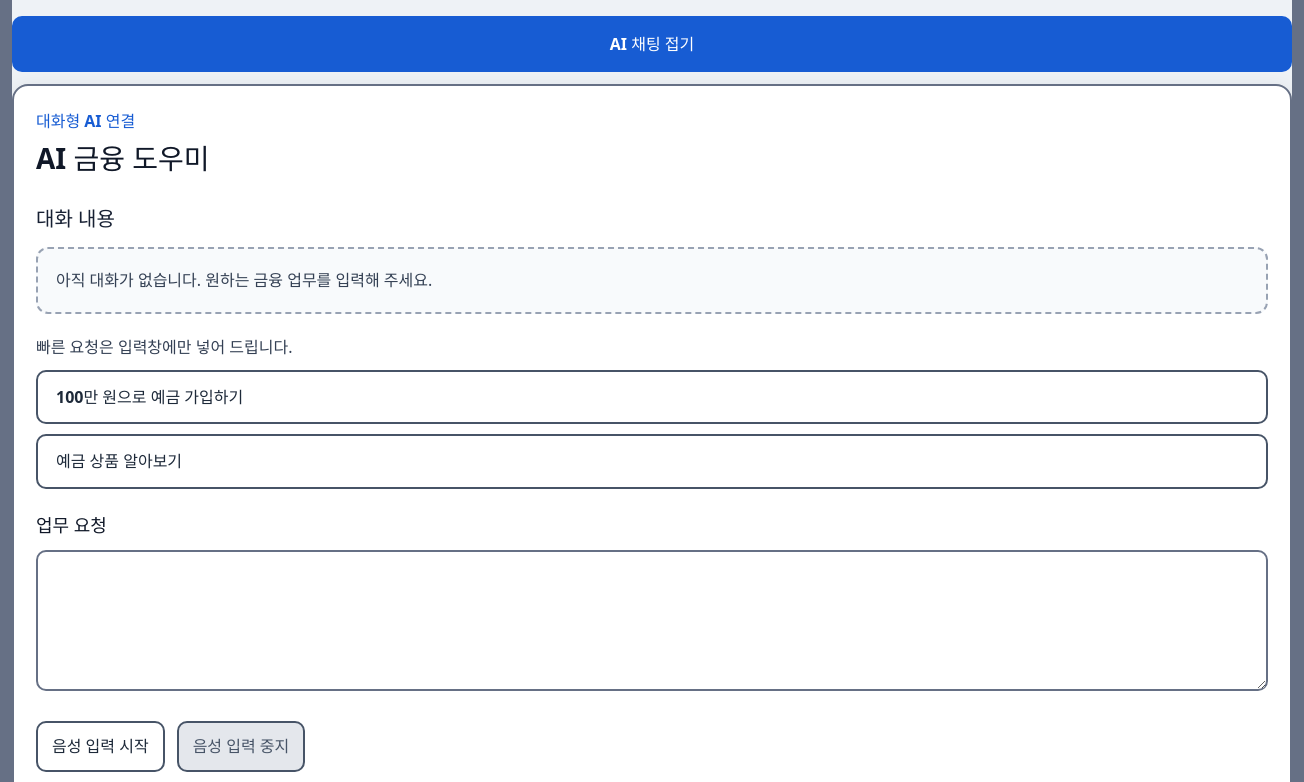
Test: agent speech controls › STT partial 결과도 draft만 바꾸고 자동 전송하지 않는다
The width and height of the screenshot is (1304, 782).
Click the button "음성 입력 시작". click: click(100, 746)
box: [36,721,165,772]
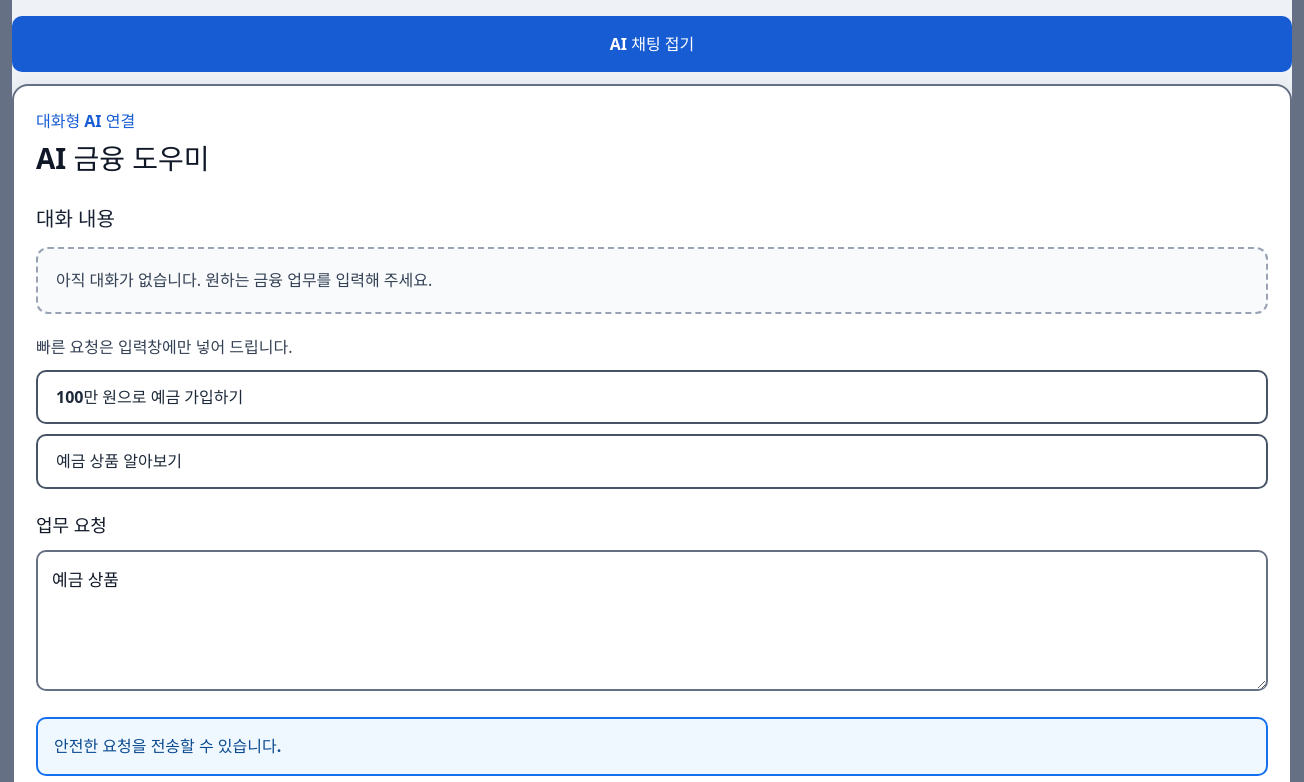
Check: the text box labelled "업무 요청" holds "예금 상품", box [36,550,1268,691]
